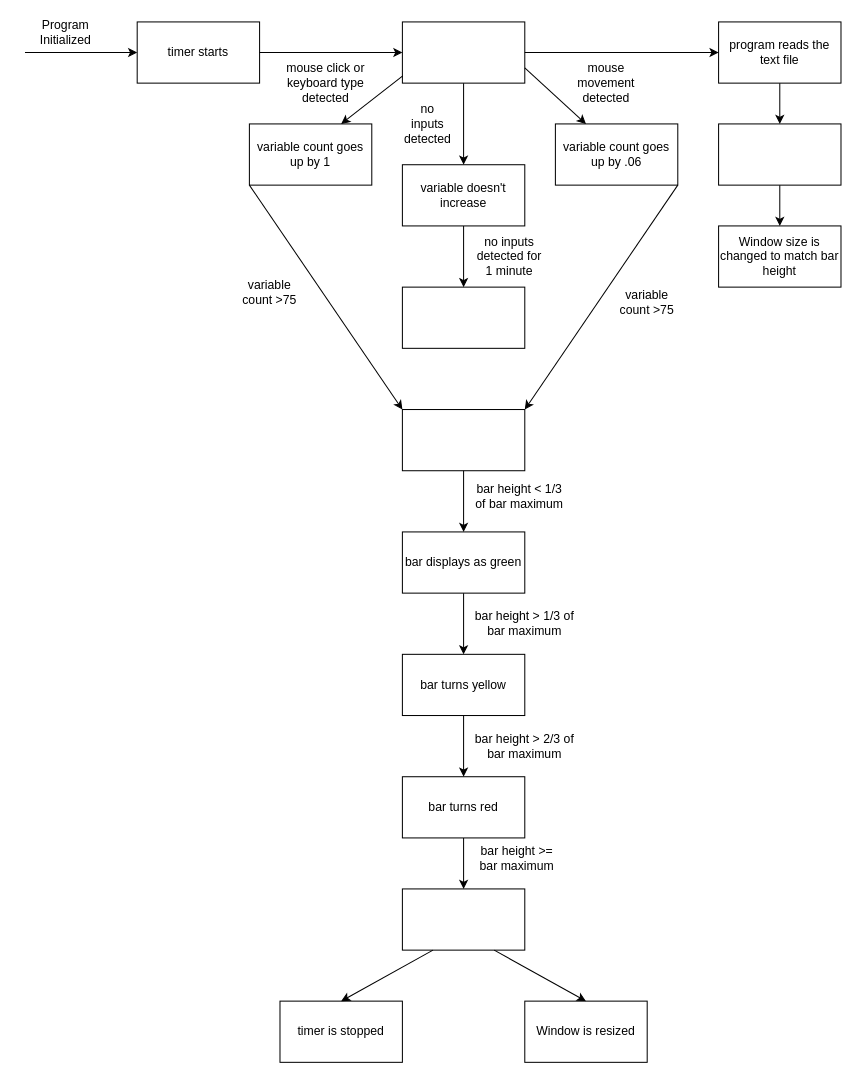
The diagram is 859 pixels wide and 1080 high, and some of its shapes have lost their labels. The box of each missing label's shape, as (x1, y1, x2, y2) in pixels:
bar decreases by 1/15: (401, 286, 525, 348)
bar height increases by 1: (401, 409, 525, 471)
bar height is set from value in text file: (718, 123, 841, 185)
feedback window is displayed: (401, 888, 525, 950)
p5nativehook library looks for inputs: (401, 21, 525, 83)
